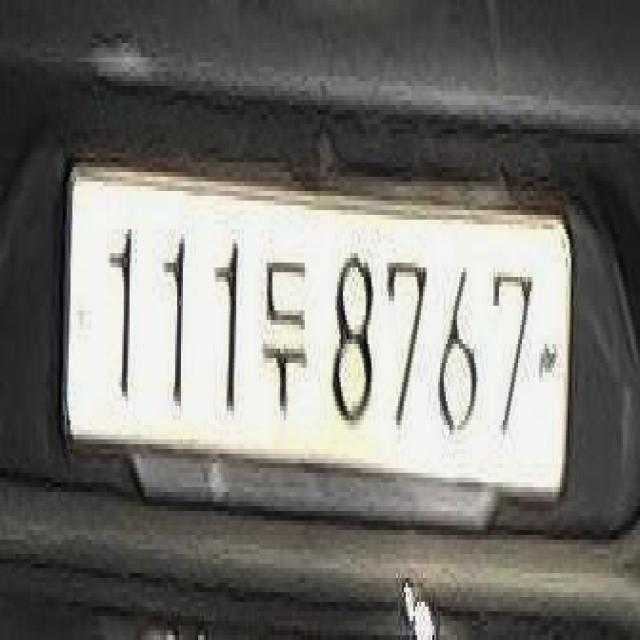illegal_plate: (58, 150, 573, 543)
